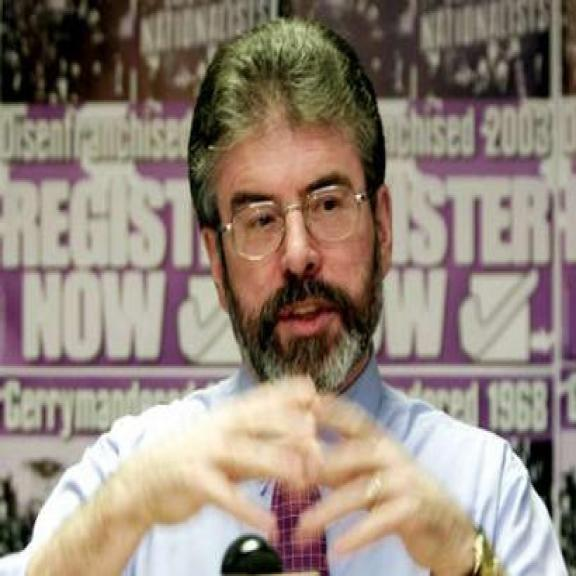face: (194, 121, 400, 392)
